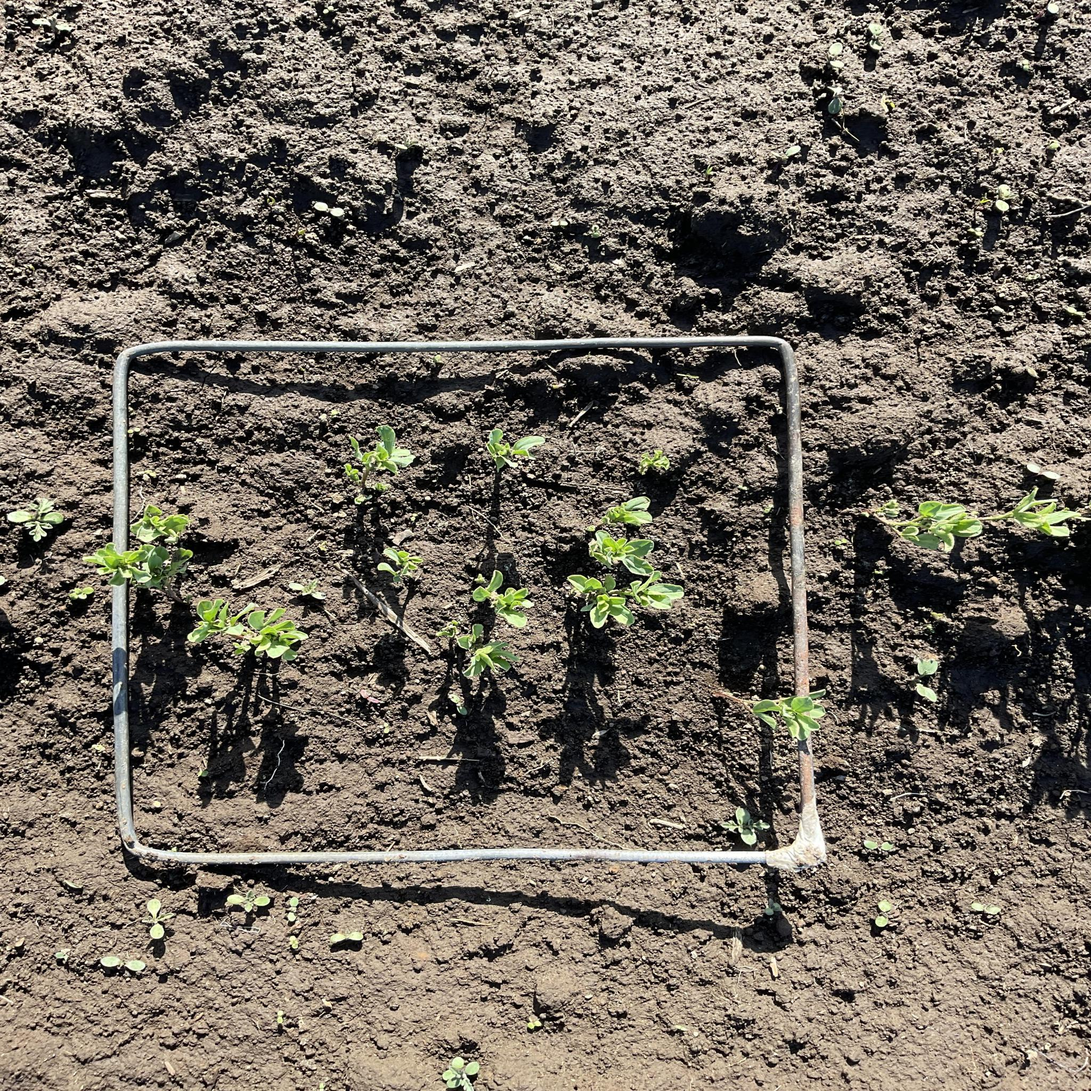AMBEL: (7, 497, 66, 542), (720, 808, 772, 845), (442, 1057, 481, 1091), (141, 898, 174, 938), (31, 12, 75, 35), (226, 890, 271, 912), (991, 182, 1020, 213), (288, 579, 327, 599), (101, 955, 148, 971), (826, 84, 847, 116), (825, 42, 849, 69), (873, 898, 894, 928), (866, 22, 889, 49), (968, 900, 1003, 917), (770, 144, 805, 161), (1026, 464, 1061, 479), (447, 693, 469, 715), (330, 931, 364, 945), (312, 202, 345, 216), (762, 897, 785, 917), (863, 840, 898, 852), (285, 897, 300, 921), (1063, 306, 1088, 318), (275, 1010, 286, 1026), (287, 936, 299, 950), (527, 1020, 542, 1030), (407, 511, 420, 522), (551, 220, 567, 228), (128, 427, 142, 436)
LENCU: (872, 497, 981, 553), (987, 483, 1080, 547), (341, 424, 424, 490), (565, 571, 639, 634), (744, 687, 827, 741), (472, 571, 542, 627), (453, 622, 520, 676), (188, 593, 256, 643), (589, 527, 660, 574), (85, 541, 151, 591), (251, 606, 309, 661), (135, 547, 197, 593), (486, 427, 547, 469), (130, 504, 194, 543), (628, 569, 689, 609), (377, 545, 425, 587), (604, 495, 654, 527), (633, 448, 673, 472)
POLAV: (700, 162, 717, 184), (263, 195, 278, 209)
POLPE: (357, 689, 382, 704)
